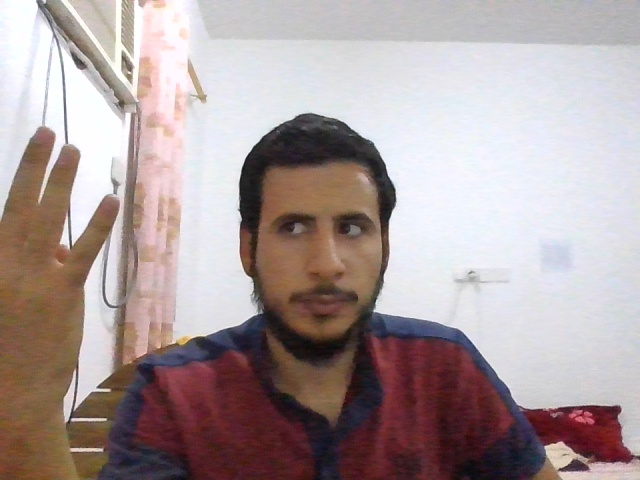Three: (1, 116, 121, 392)
